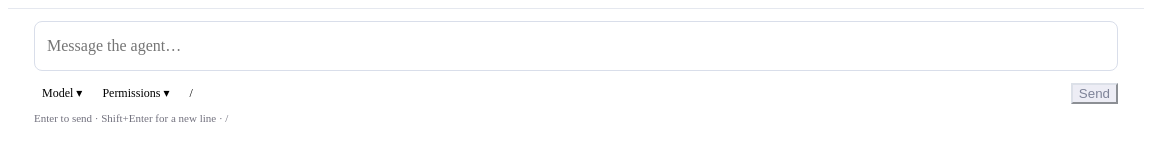
Scenario: task session composer and timeline › does not send an IME confirmation and preserves newer edits while an input is pending
This screenshot has width=1152, height=160.
Step 1. Type "first" into the text box labelled "Message" → point(576, 46), box [34, 21, 1118, 71]
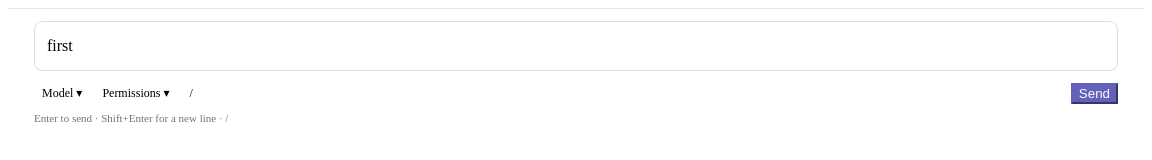
Step 2. Press Enter in the text box named "Message", box [34, 21, 1118, 71]
Step 3. Press Enter in the text box named "Message", box [34, 21, 1118, 71]
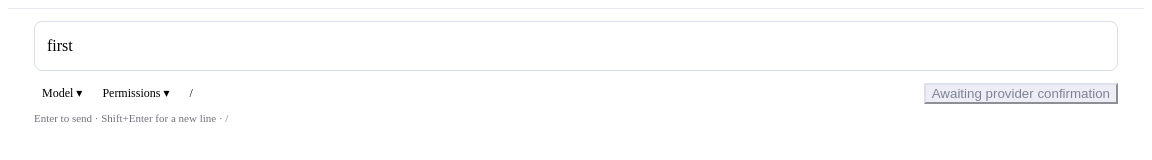
Step 4. Replace the text in the text box named "Message" with "second draft" → point(576, 46), box [34, 21, 1118, 71]
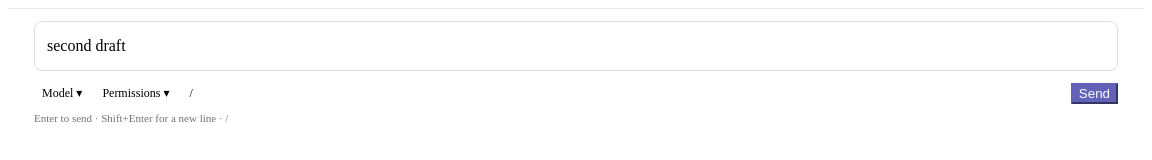
Now the button "Send" is enabled, box [1071, 83, 1118, 104]
